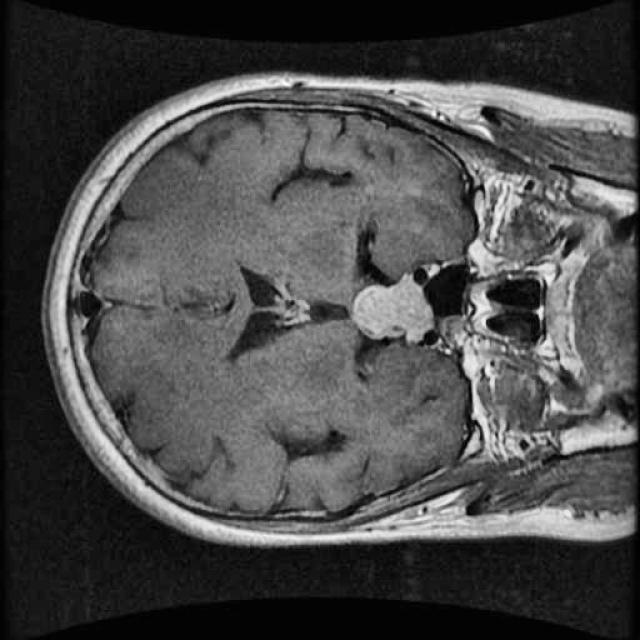Tumor: (341, 259, 456, 356)
